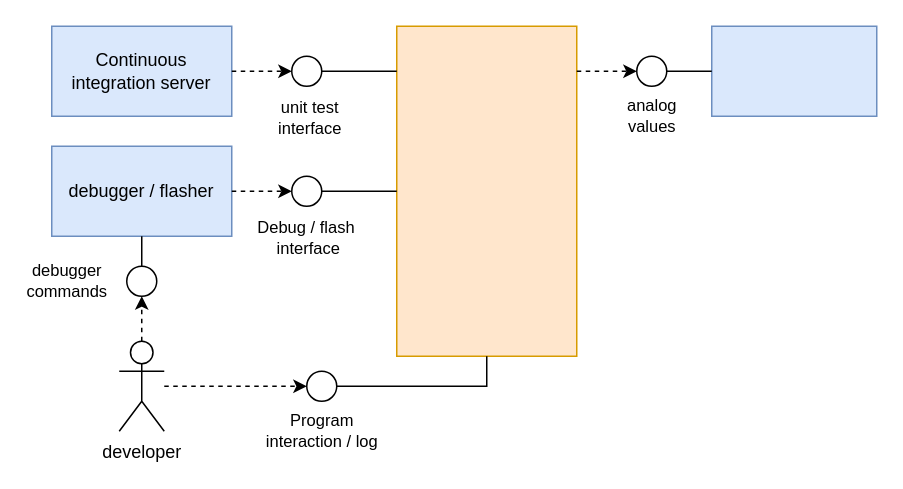
Some shapes in this 903 by 489 pixel diagram are drawn without their labels. The centre of each missing label's shape, as x and y in pixels:
BacaSable: pixel 486 190
Sensor: pixel 793 70
